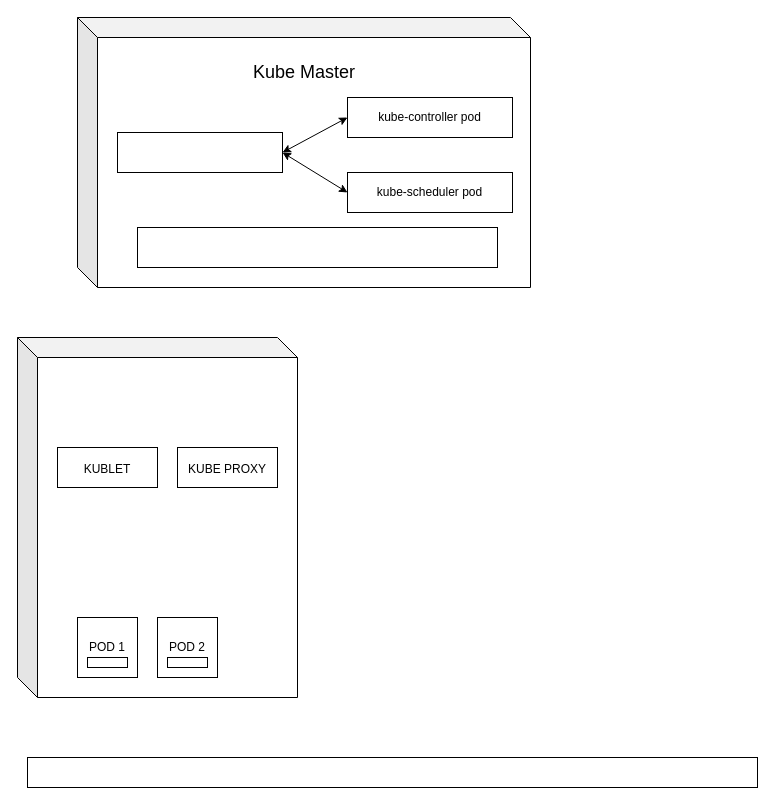
Some shapes in this 775 by 805 pixel diagram are drawn without their labels. The centre of each missing label's shape, as x and y in pixels:
"etcd pod" goes at (x=317, y=247).
"kube-apiserver pod" goes at (x=199, y=152).
"SERVICES" goes at (x=392, y=772).
